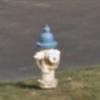a fire hydrant: (34, 25, 62, 89)
